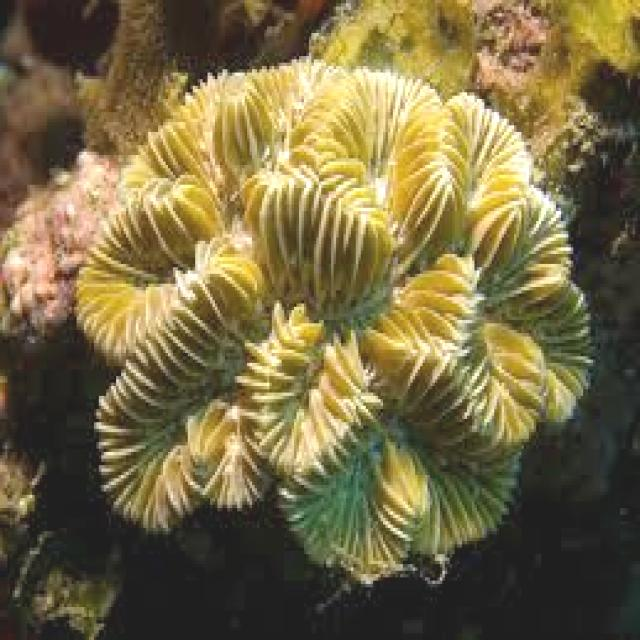Coral: (73, 52, 597, 587)
